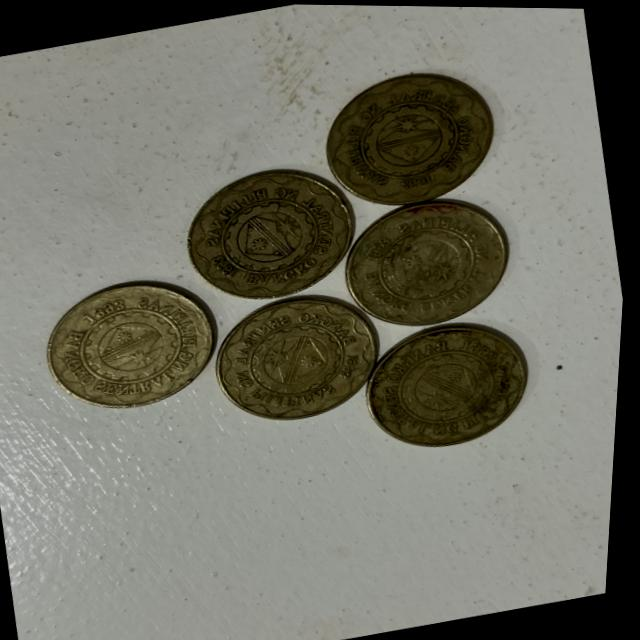5_Old_Back: (303, 58, 513, 222), (164, 161, 372, 317), (35, 267, 236, 424), (356, 305, 546, 466), (341, 187, 520, 338), (225, 279, 400, 431)
